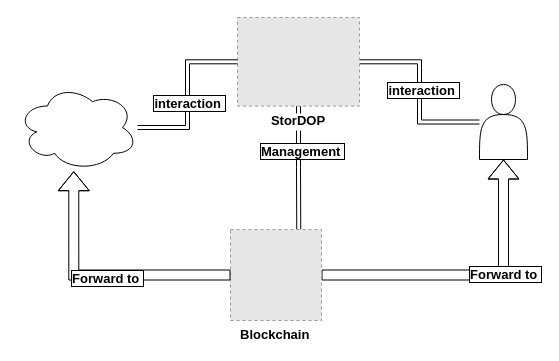
This 559x361 diagram has some shape labels left out. Grey dashed boxes stand in for pictures. The shapes that lost their labels are listed below. From the top down, each one's centre as x and y in pixels, then its label:
At point 77,127: "CSP".
At point 503,122: "USER".
